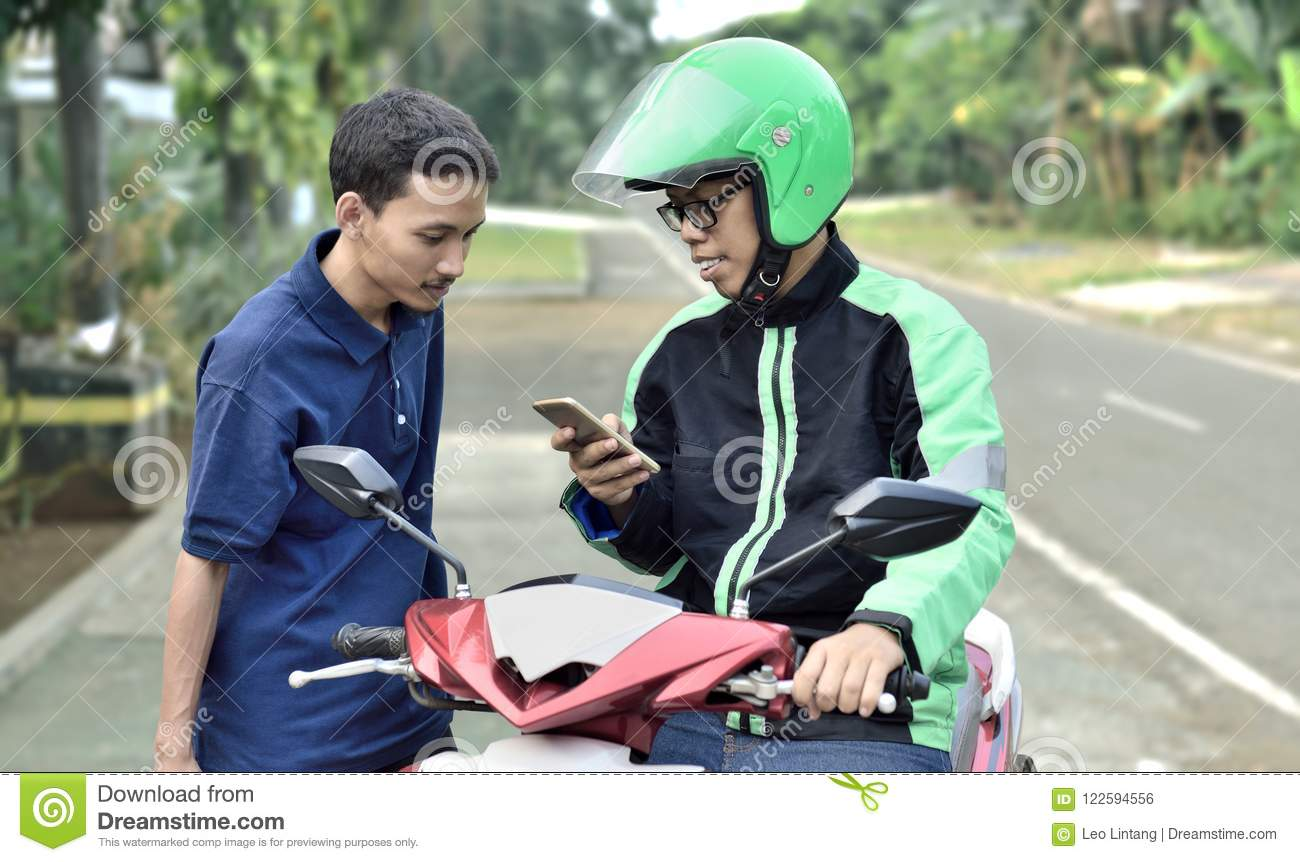helmet: (641, 44, 854, 236)
